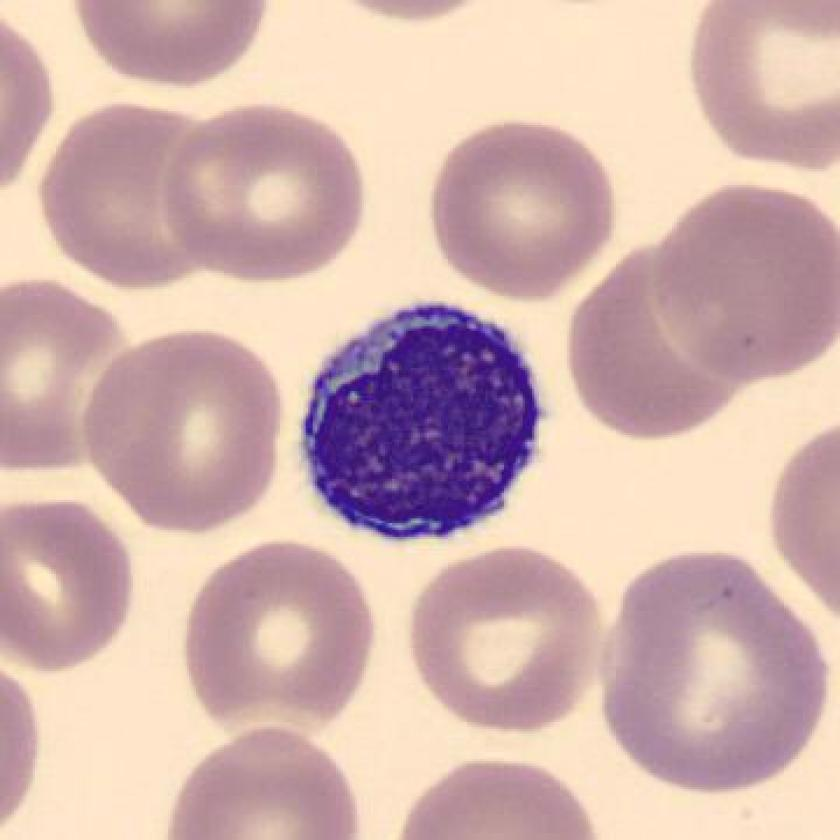lymphocyte: (283, 293, 566, 554)
